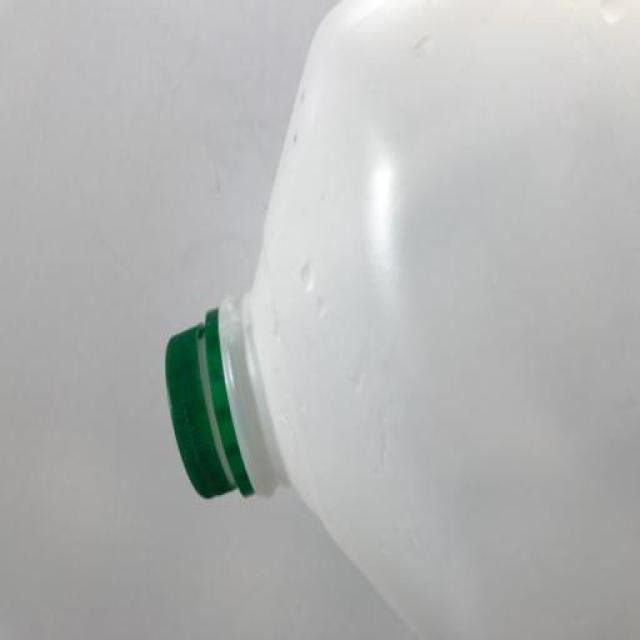plastic: (163, 0, 638, 638)
